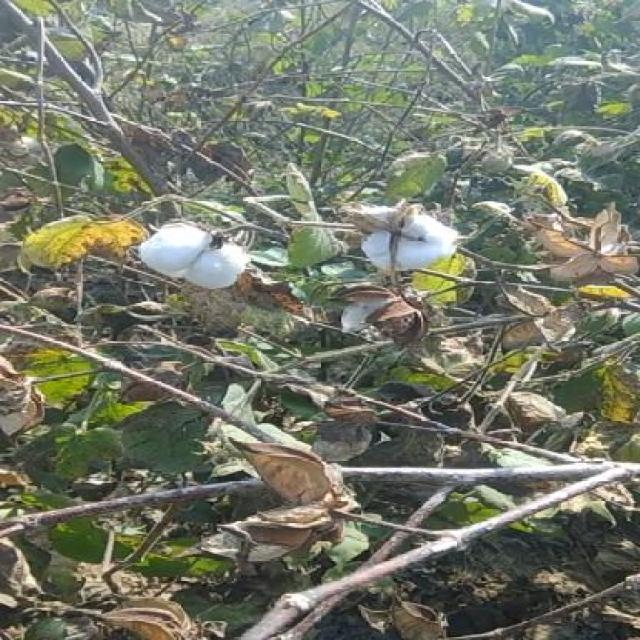cotton_ready: (103, 222, 279, 307), (337, 199, 478, 290)
